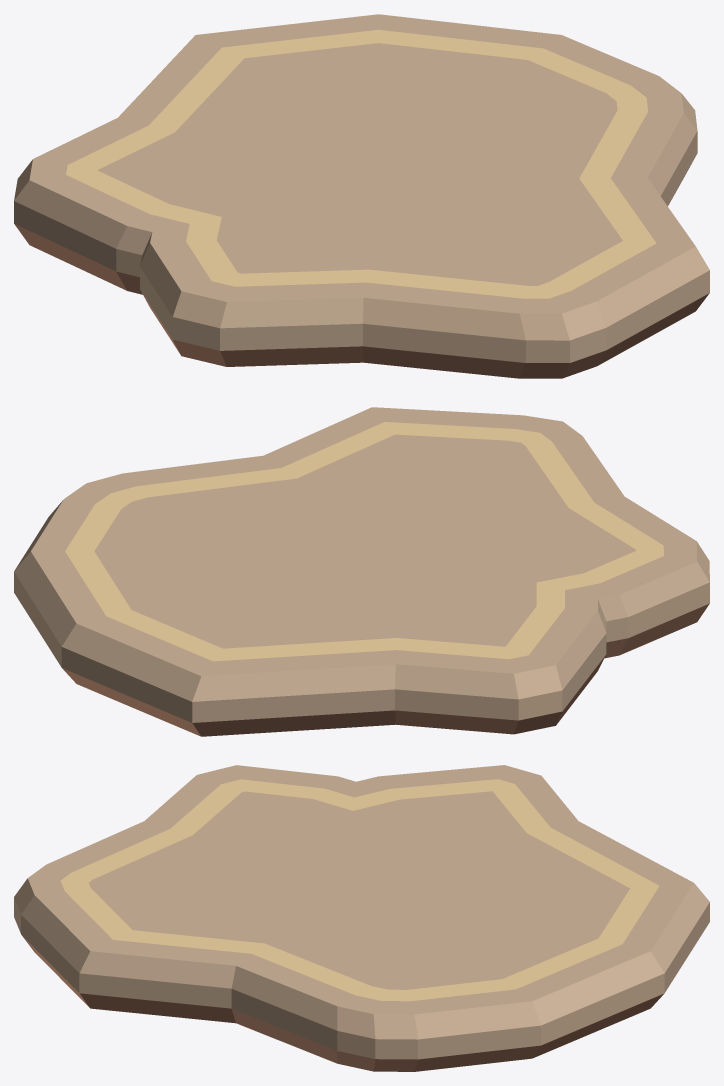
The model's file is tree_mushroom.fbx.
3 views of the same model, one above another, from view 1: azimuth 30°, elevation 25°; view 2: azimuth 150°, elevation 25°; view 3: azimuth 270°, elevation 25° (orthographic). The views are drawn at different scales.
Parts seen in each view (by area): view 1: tree_mushroom; view 2: tree_mushroom; view 3: tree_mushroom.
Part boxes in pixels (<box>): tree_mushroom: <box>14,14,709,378</box>; tree_mushroom: <box>14,407,709,736</box>; tree_mushroom: <box>14,765,709,1071</box>.
Size of the model in its own units: 120 by 12.28 by 135.
